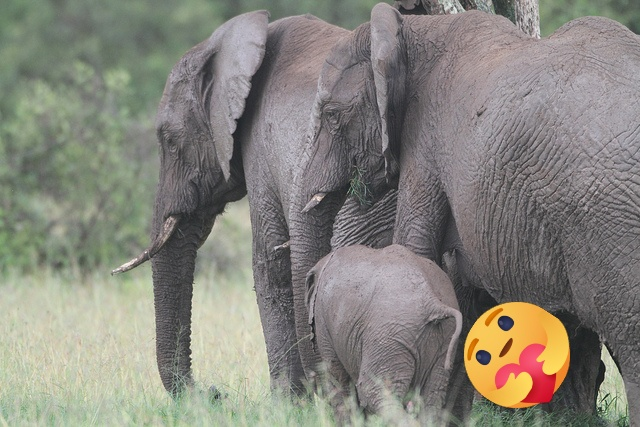care: (464, 302, 570, 408)
